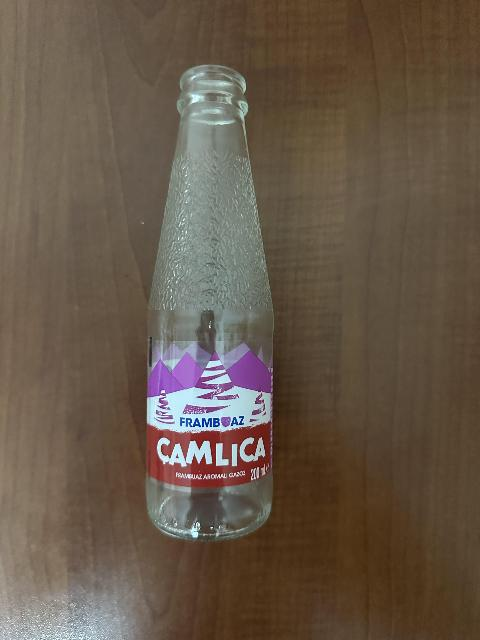Cam: (149, 67, 279, 541)
Plastik: (135, 337, 298, 489)
